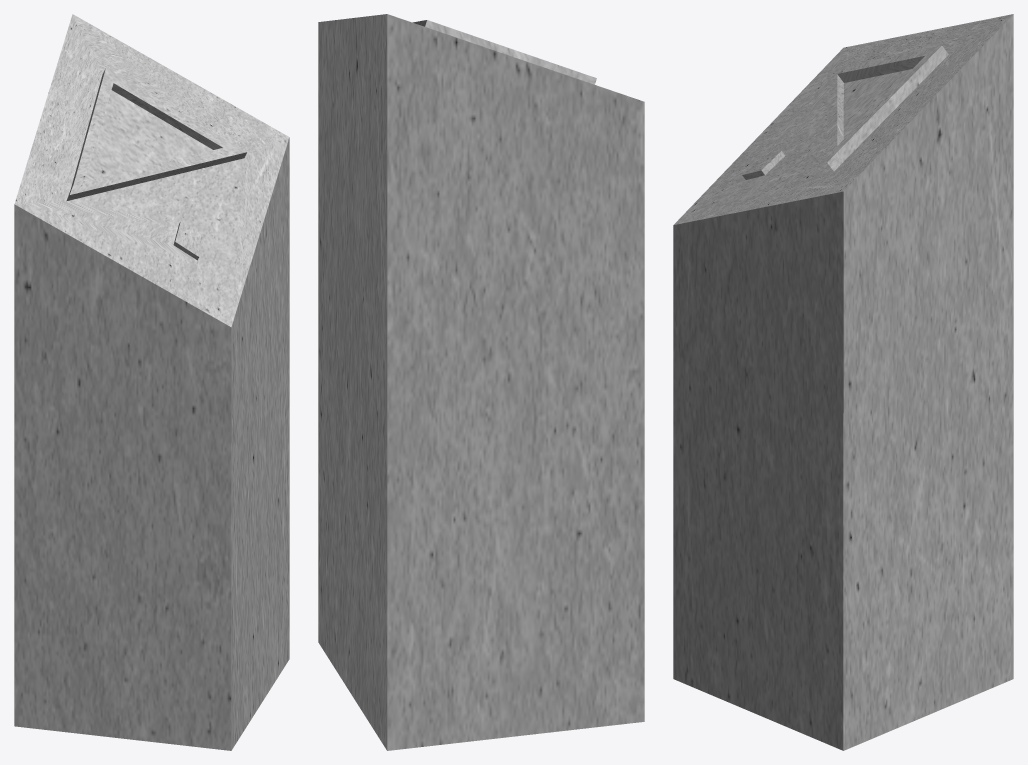
The model's file is Altar.fbx.
3 views of the same model, side by side, from view 1: azimuth 30°, elevation 25°; view 2: azimuth 150°, elevation 25°; view 3: azimuth 270°, elevation 25° (orthographic). The views are drawn at different scales.
Visible parts, largest first — view 1: Cube; view 2: Cube; view 3: Cube.
Boxes of the visible parts, bbox=[...] form: Cube: bbox=[14, 14, 289, 750]; Cube: bbox=[318, 14, 644, 750]; Cube: bbox=[673, 14, 1013, 750].
Size of the model in its own units: 283 by 610 by 283.
